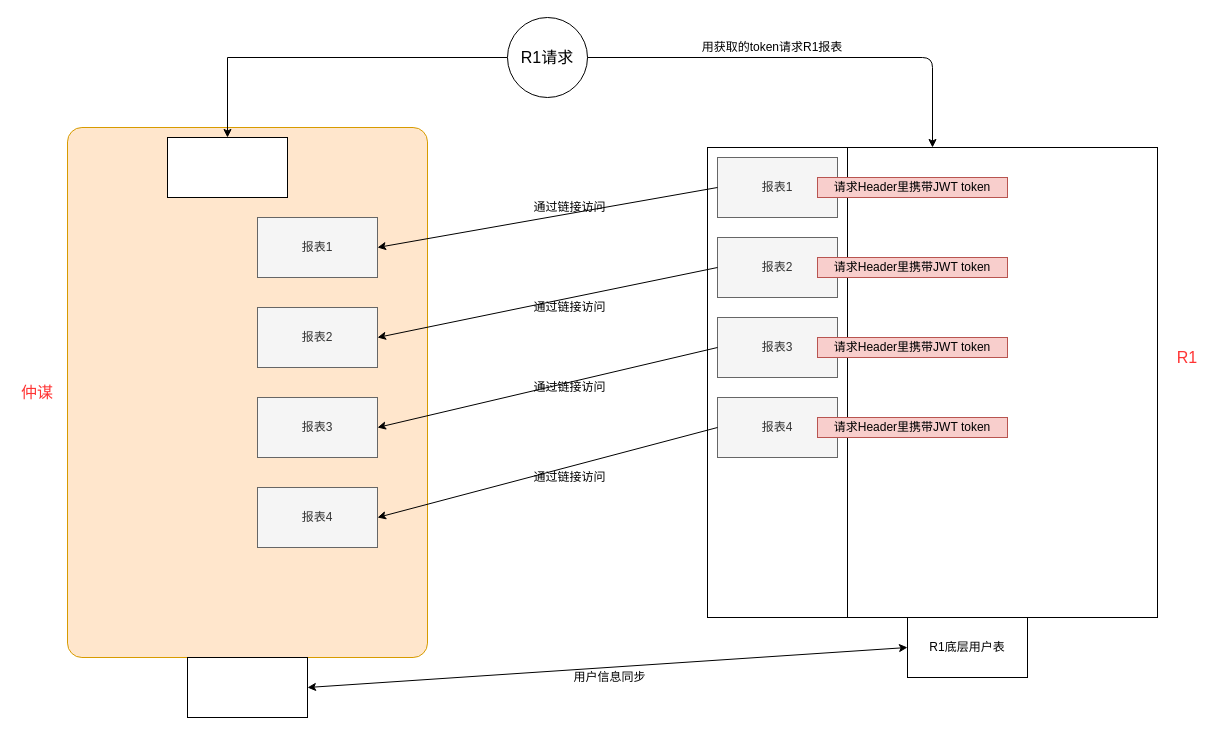
Some shapes in this 1224 by 735 pixel diagram are drawn without their labels. The centre of each missing label's shape, as x and y in pixels:
"仲谋底层用户表" goes at (247,687).
"获取Token" goes at (227,167).
